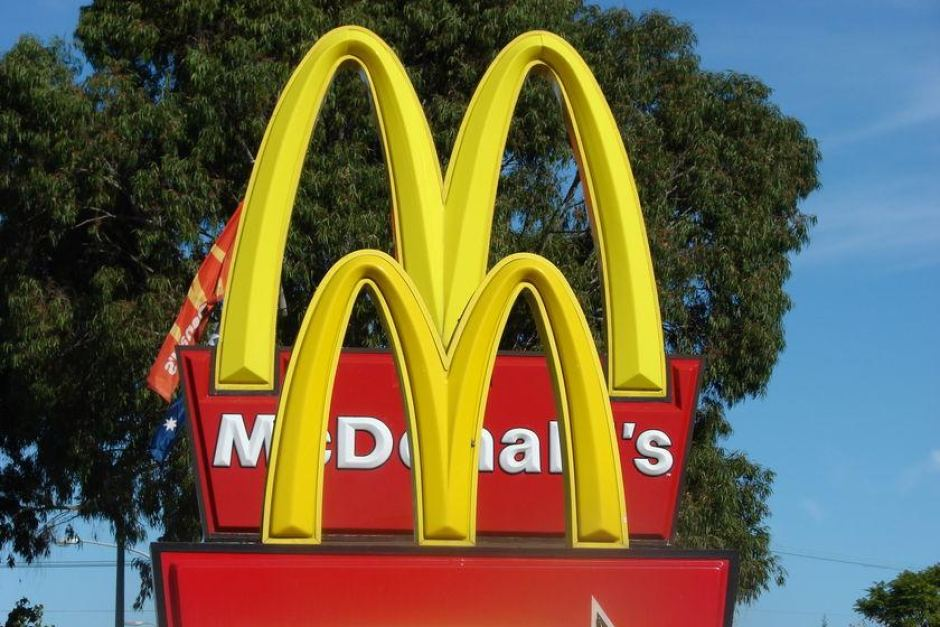mcdonalds: (196, 10, 670, 399), (213, 10, 670, 393), (213, 20, 670, 393), (261, 245, 626, 549)
